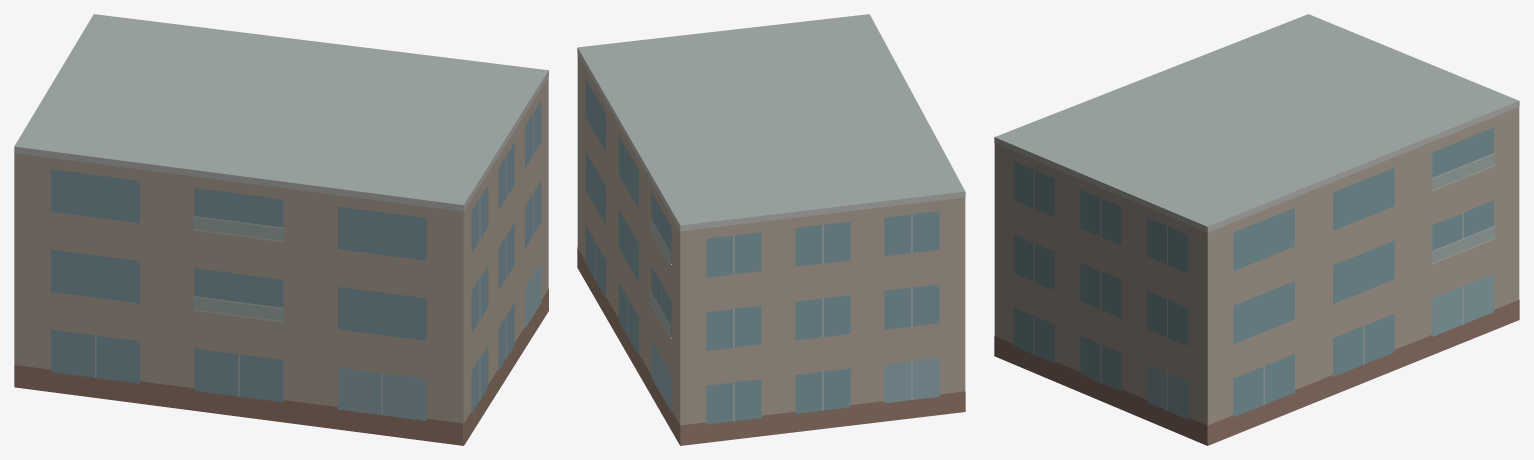
The model's file is survey-upis-32564814.glb.
The picture shows the model from 3 angles, left to right: view 1: azimuth 30°, elevation 25°; view 2: azimuth 150°, elevation 25°; view 3: azimuth 270°, elevation 25°; orthographic projection. The views are drawn at different scales.
Visible parts, largest first — view 1: survey-upis-32564814.tmp; view 2: survey-upis-32564814.tmp; view 3: survey-upis-32564814.tmp.
Boxes of the visible parts, bbox=[...] form: survey-upis-32564814.tmp: bbox=[14, 14, 548, 445]; survey-upis-32564814.tmp: bbox=[577, 14, 965, 445]; survey-upis-32564814.tmp: bbox=[994, 14, 1519, 445].
Size of the model in its own units: 19.07 by 9.15 by 19.88.
